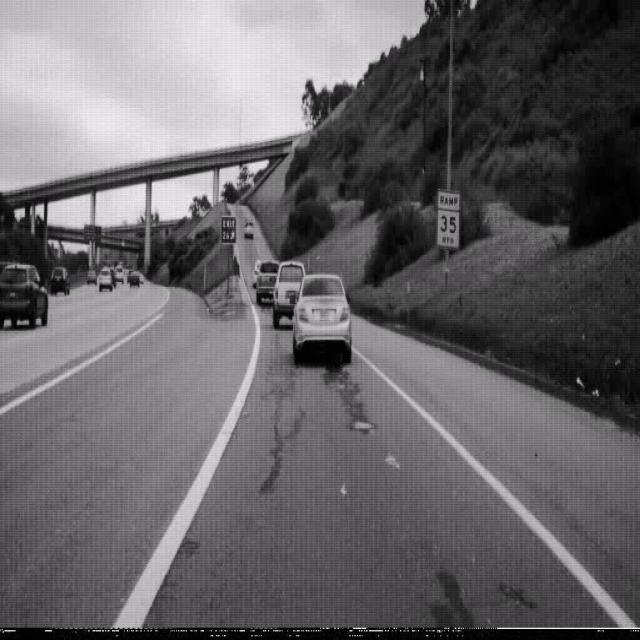speedLimit35: (434, 189, 462, 250)
